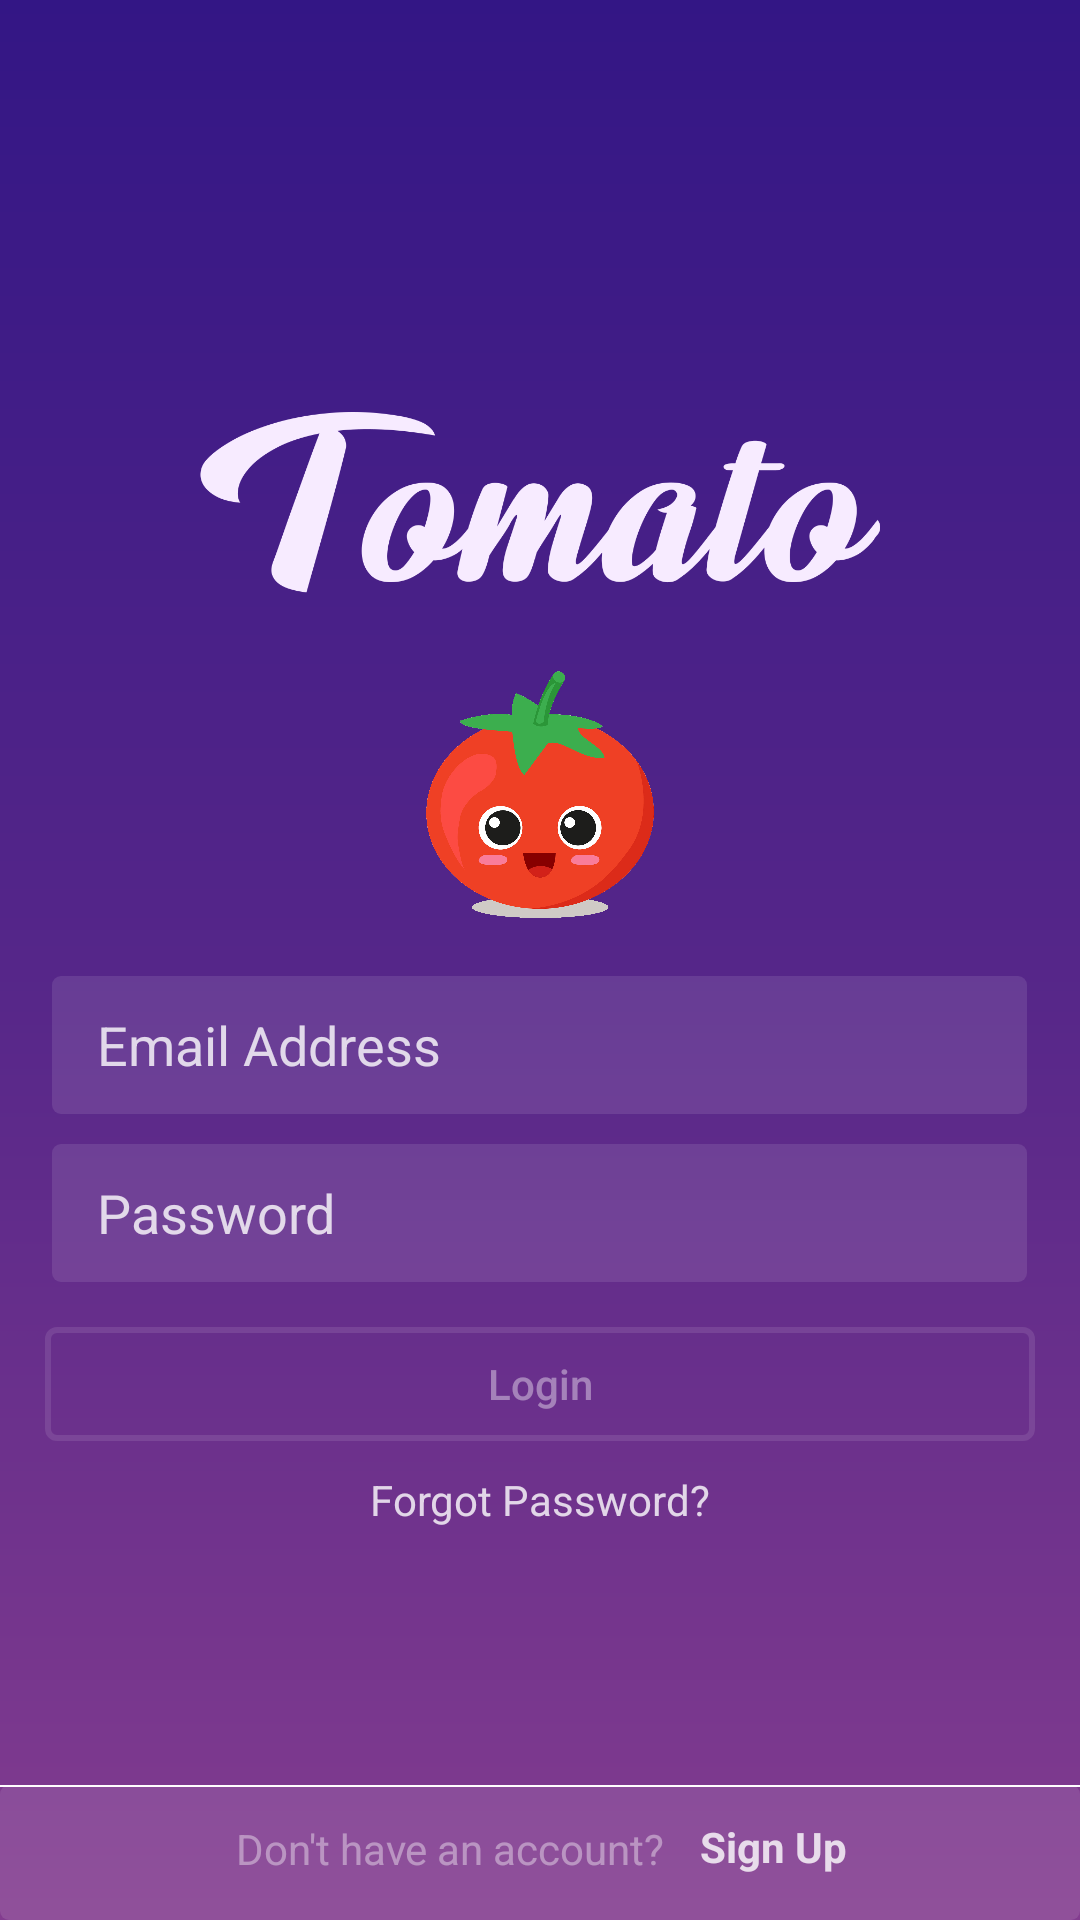

Where to tap for icons on this 1080px x 1920px app screen, as (x=x, y=y):
tomato: (x=540, y=794)
